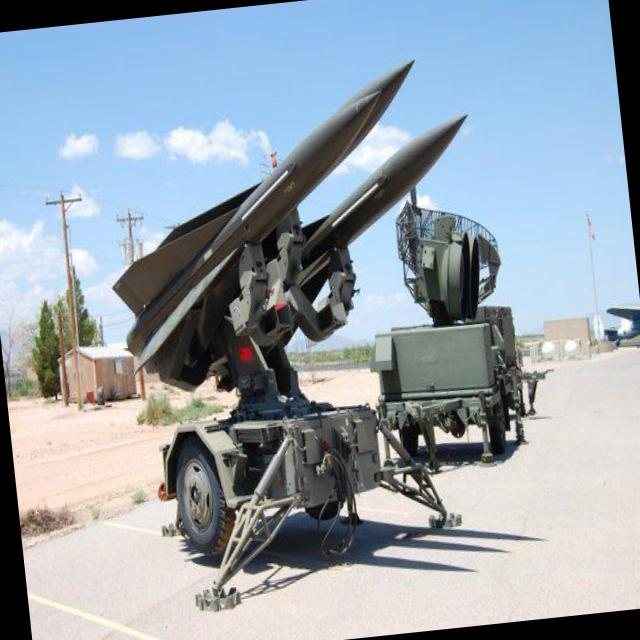rocket: (96, 40, 491, 361)
